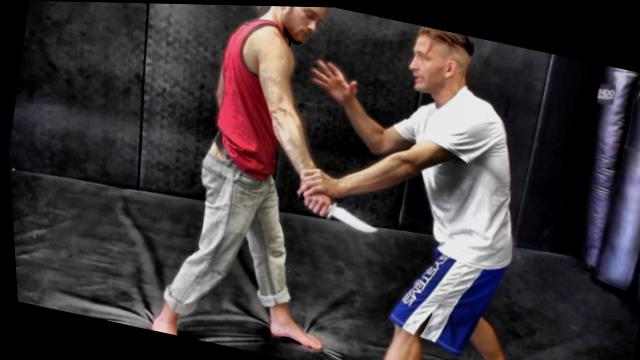knife: (286, 186, 383, 239)
